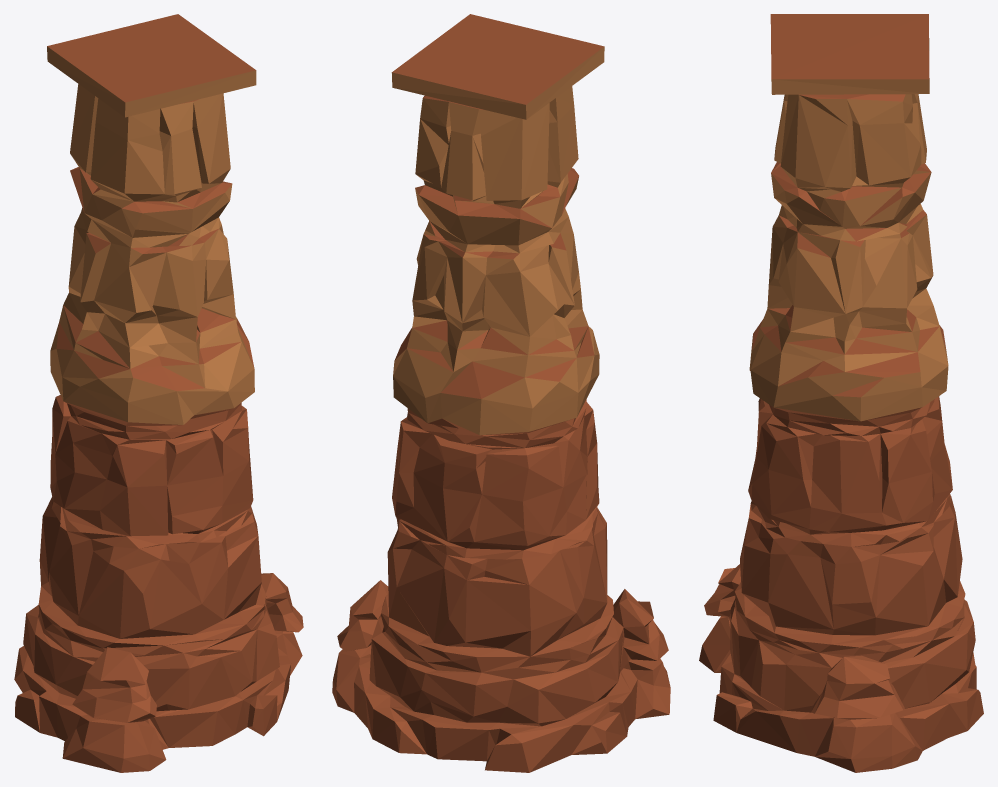
Rendered from canyon-spire-2.glb.
3 views of the same model, side by side, from view 1: azimuth 30°, elevation 25°; view 2: azimuth 150°, elevation 25°; view 3: azimuth 270°, elevation 25° (orthographic).
Visible parts, largest first — view 1: output_unwrapped; view 2: output_unwrapped; view 3: output_unwrapped.
Boxes of the visible parts, x1,y1,x2,y2 form: output_unwrapped: (14, 14, 303, 772); output_unwrapped: (332, 14, 670, 772); output_unwrapped: (699, 14, 983, 772).
Size of the model in its own units: 2.73 by 6 by 2.38.
